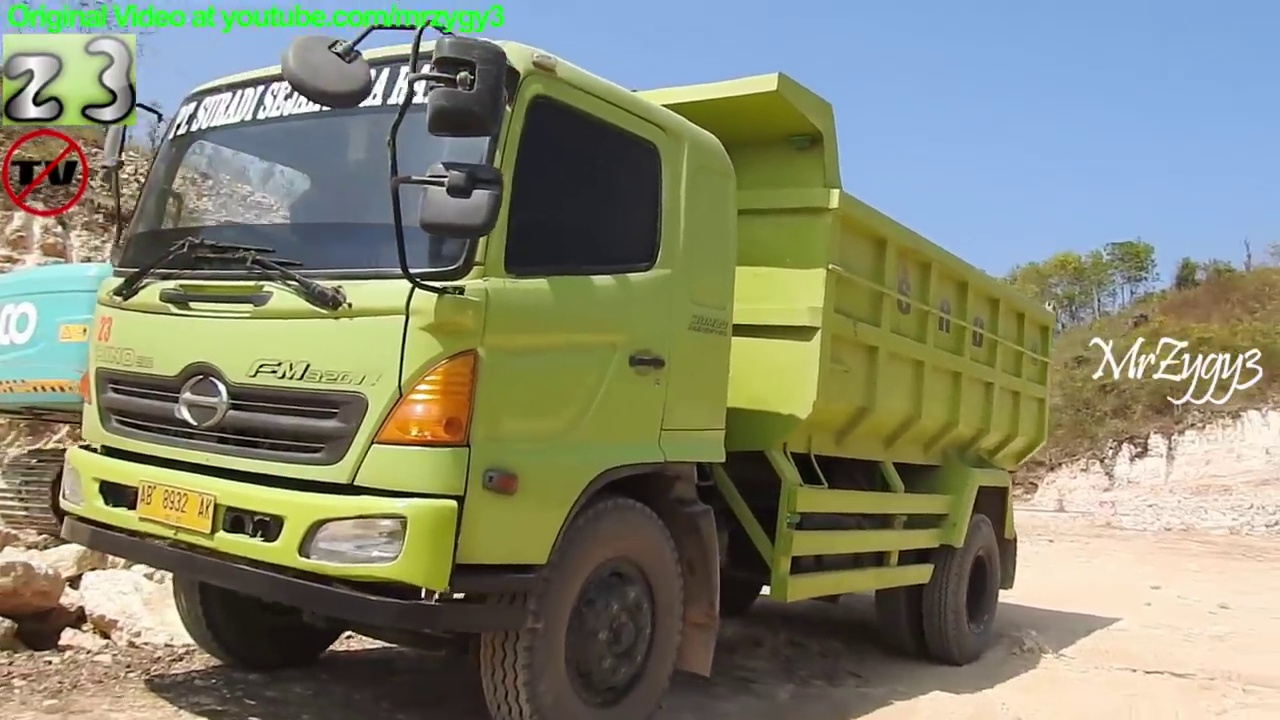excavator: (2, 245, 205, 574)
truck: (54, 14, 1061, 720)
